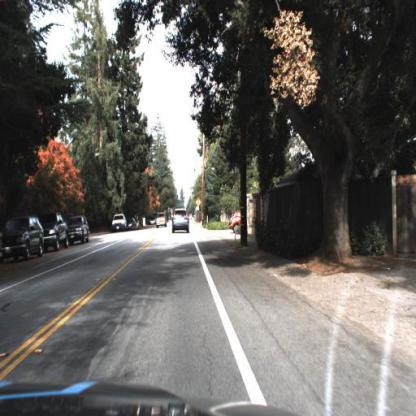car: (1, 215, 43, 260), (39, 213, 71, 253), (43, 208, 71, 253), (66, 204, 92, 245), (170, 204, 191, 234), (106, 210, 128, 236), (70, 215, 89, 243), (225, 204, 242, 234), (152, 209, 170, 230), (111, 210, 127, 230), (126, 213, 138, 231)
